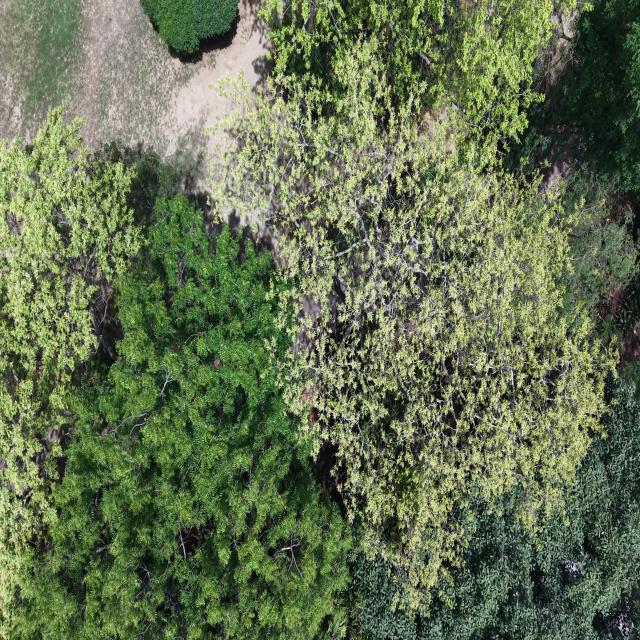DRY_AREA: (0, 0, 267, 170)
VEGETATION_TREE: (0, 0, 639, 639), (213, 42, 612, 593), (23, 196, 349, 638), (349, 370, 639, 639), (0, 110, 142, 616), (263, 0, 553, 162), (510, 0, 639, 253), (529, 0, 639, 190), (559, 171, 638, 322), (2, 0, 81, 126), (141, 0, 238, 53), (610, 279, 639, 339)
